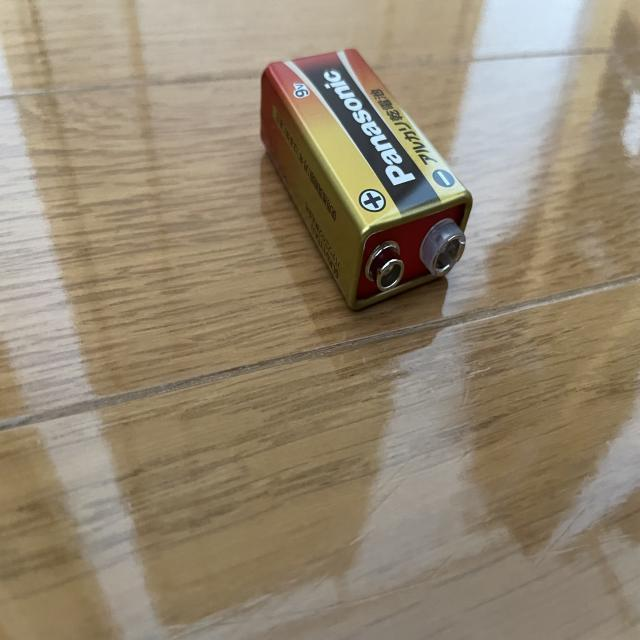9V: (259, 48, 473, 312)
